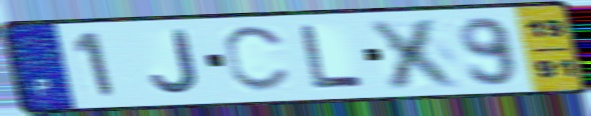1: (70, 30, 119, 100)
9: (456, 14, 522, 87)
C: (220, 23, 294, 95)
J: (147, 27, 204, 96)
L: (297, 22, 368, 92)
X: (363, 15, 468, 91)
